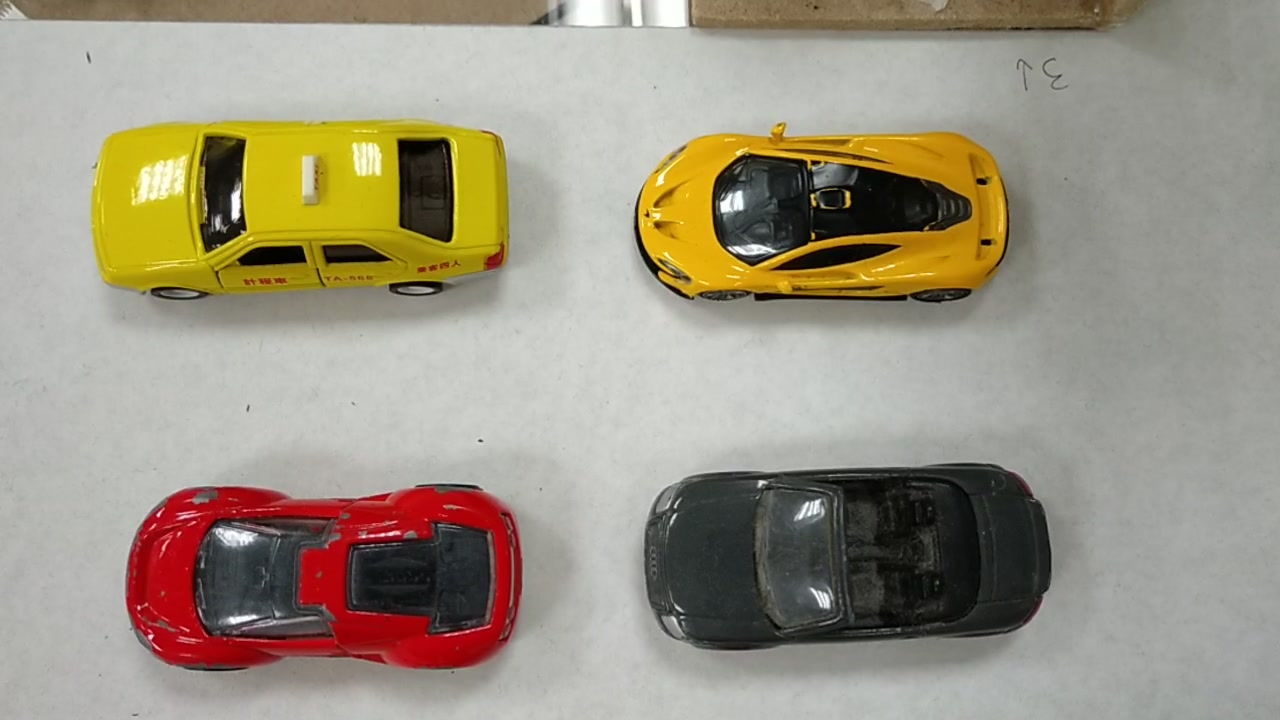car: (86, 119, 509, 301), (121, 485, 527, 673), (640, 467, 1051, 642), (631, 127, 1011, 314)
